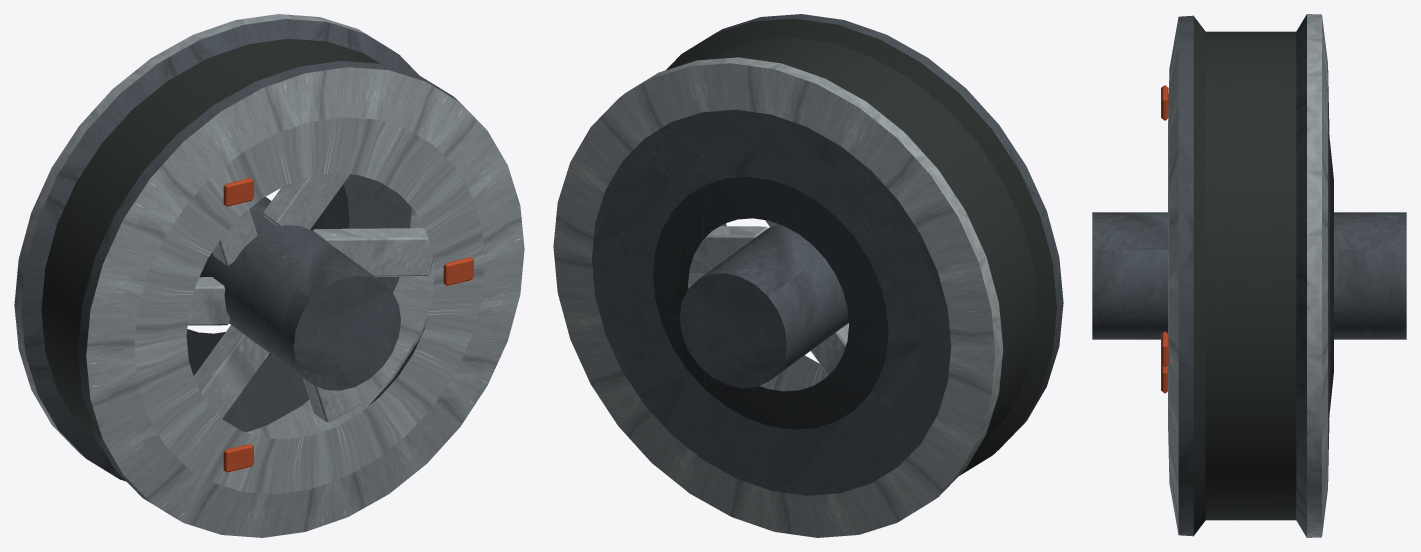
Rendered from roller_rear_lower_idler.fbx.
3 renders of one model, left to right at view 1: azimuth 30°, elevation 25°; view 2: azimuth 150°, elevation 25°; view 3: azimuth 270°, elevation 25°, orthographic. The views are drawn at different scales.
Parts seen in each view (by area): view 1: SM_roller_rear_lower_idler; view 2: SM_roller_rear_lower_idler; view 3: SM_roller_rear_lower_idler.
Part boxes in pixels (x1,y1,x2,y2): SM_roller_rear_lower_idler: (14, 14, 524, 537); SM_roller_rear_lower_idler: (553, 14, 1063, 537); SM_roller_rear_lower_idler: (1092, 14, 1406, 537).
Size of the model in its own units: 0.3473 by 0.3473 by 0.208.
Materials: 6 (6 with a texture image).
